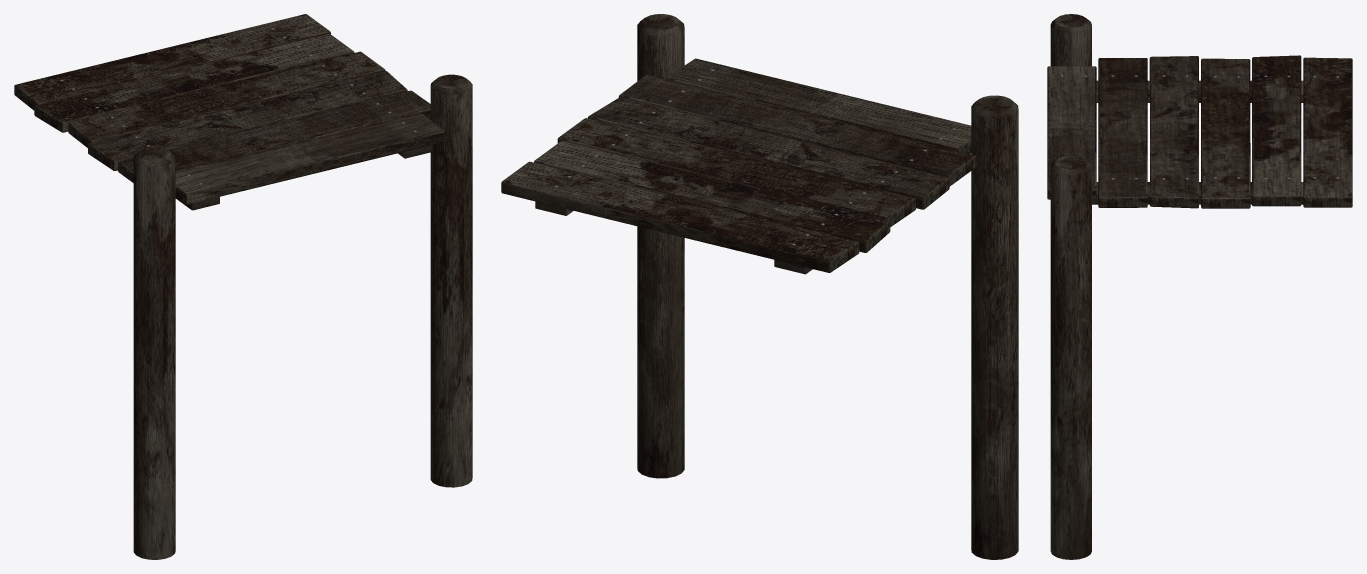
Rendered from DockPlatform.fbx.
3 renders of one model, left to right at view 1: azimuth 30°, elevation 25°; view 2: azimuth 150°, elevation 25°; view 3: azimuth 270°, elevation 25°, orthographic. The views are drawn at different scales.
Visible parts, largest first — view 1: Dock Platform; view 2: Dock Platform; view 3: Dock Platform.
Boxes of the visible parts, x1,y1,x2,y2 form: Dock Platform: [14, 14, 472, 559]; Dock Platform: [501, 14, 1018, 559]; Dock Platform: [1047, 14, 1352, 559].
Size of the model in its own units: 432 by 492 by 350.
